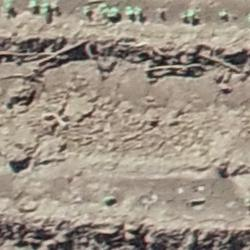cotton: (98, 4, 111, 17), (186, 9, 195, 18), (133, 6, 142, 15), (41, 4, 49, 14), (110, 8, 118, 17), (127, 7, 134, 15), (4, 1, 11, 9), (30, 1, 37, 8)
